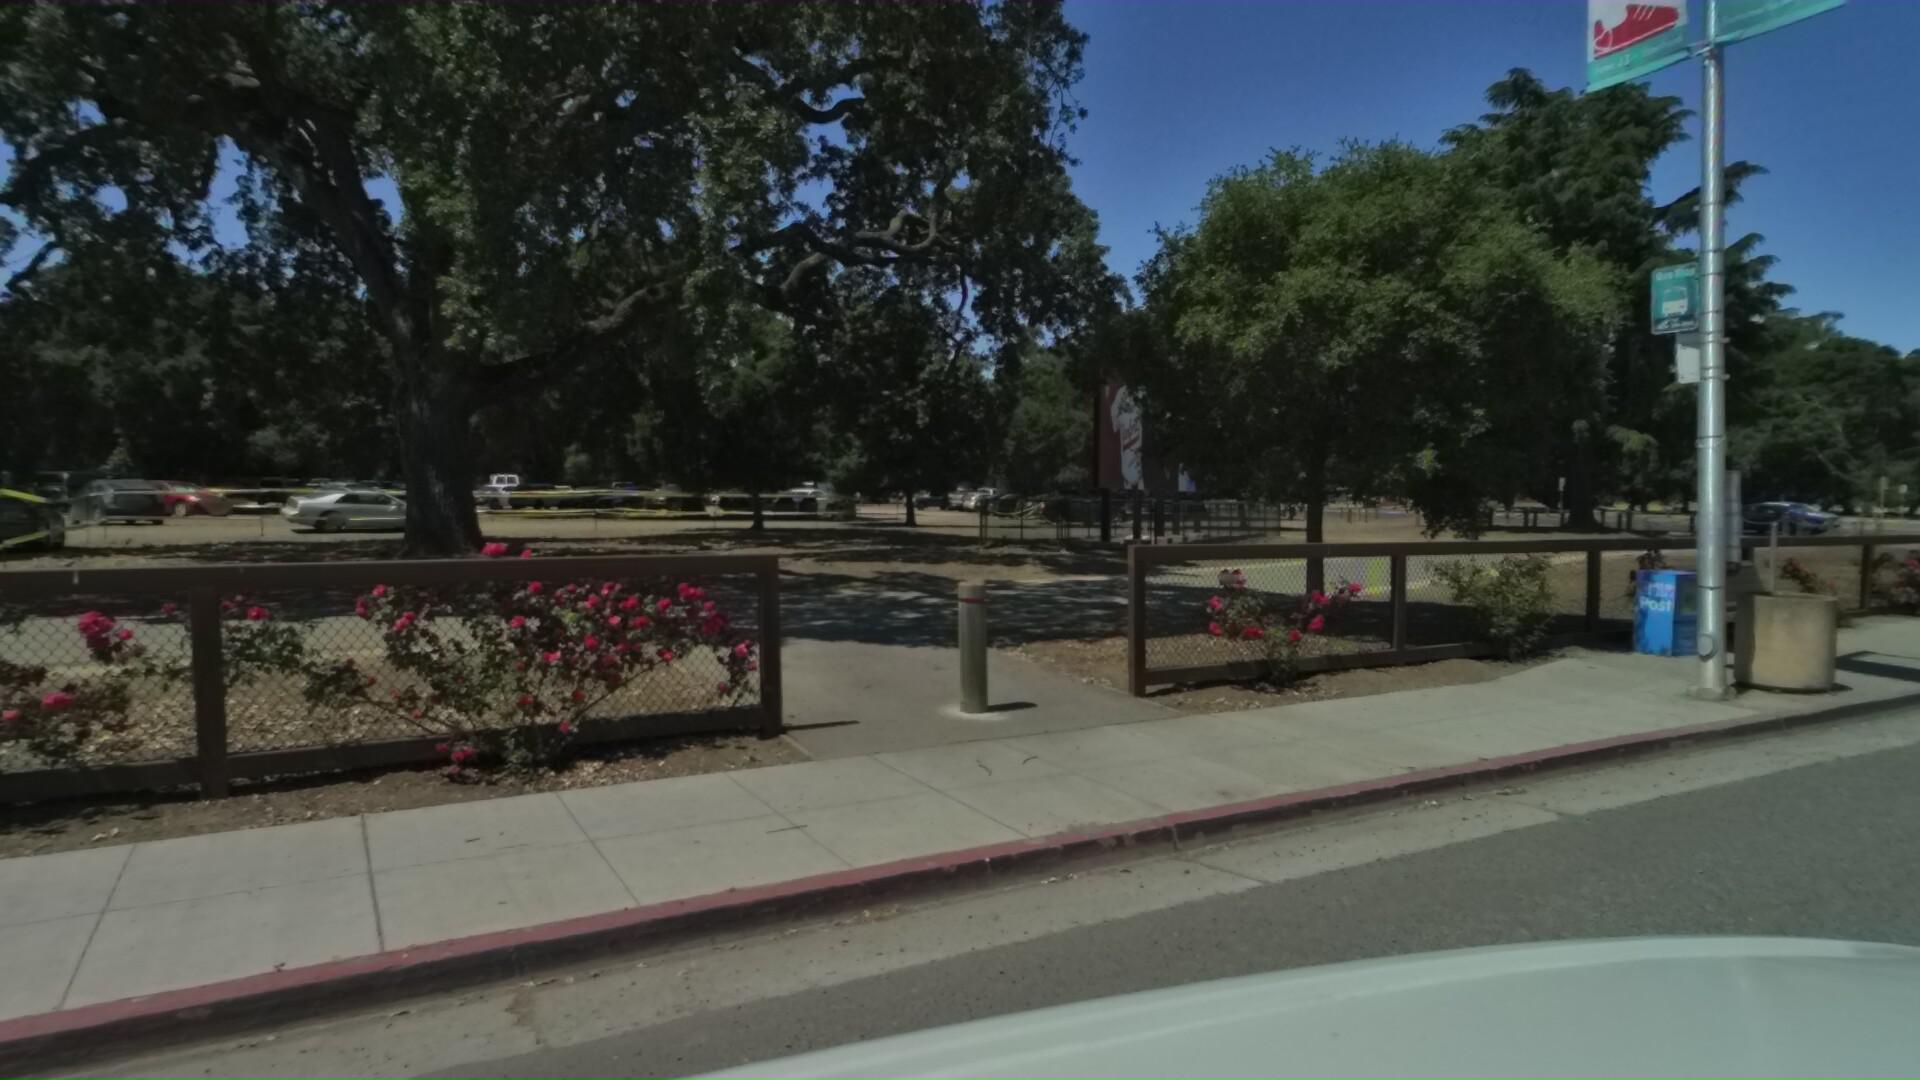car: (1714, 502, 1834, 543), (1915, 493, 1920, 537)
